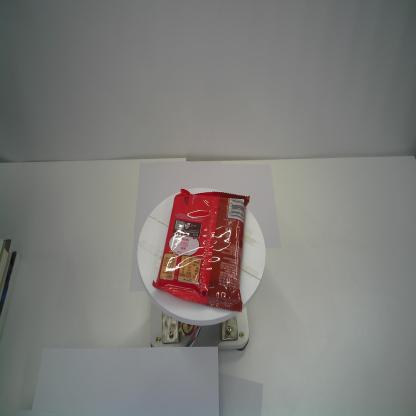Dessert: (152, 188, 250, 313)
